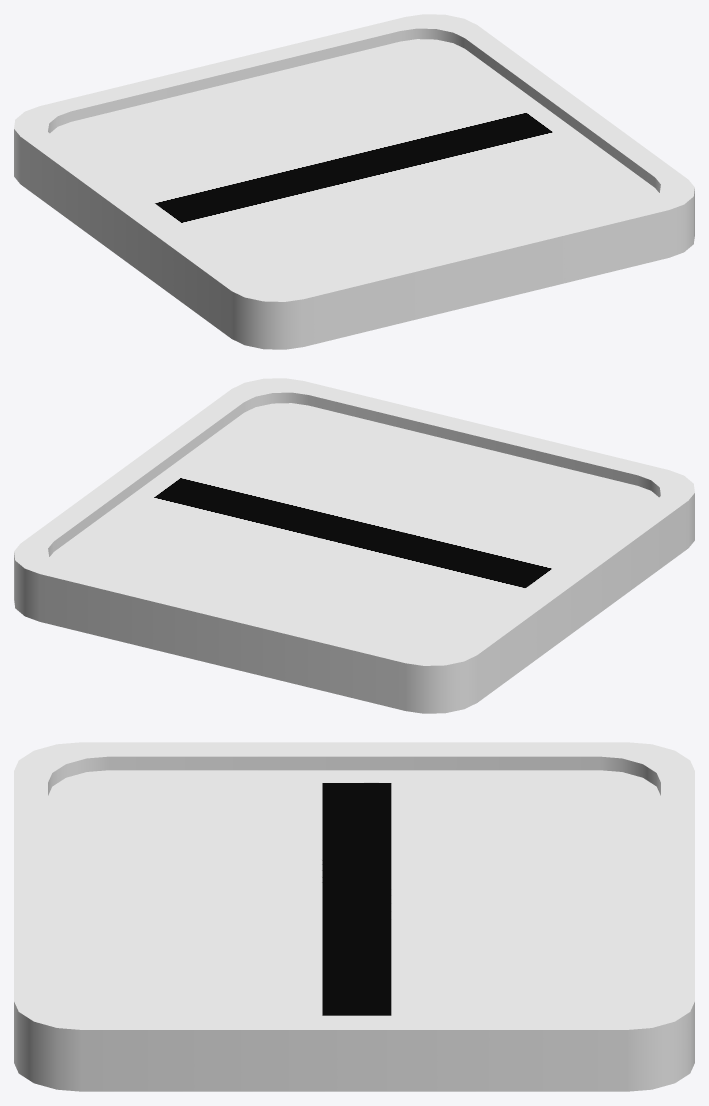
File: PuzzleBrick.fbx
3 renders of one model, top to bottom at view 1: azimuth 30°, elevation 25°; view 2: azimuth 150°, elevation 25°; view 3: azimuth 270°, elevation 25°, orthographic. The views are drawn at different scales.
Visible parts, largest first — view 1: PuzzleBrick; view 2: PuzzleBrick; view 3: PuzzleBrick.
Boxes of the visible parts, <box> form: PuzzleBrick: <box>14,14,694,349</box>; PuzzleBrick: <box>14,378,694,713</box>; PuzzleBrick: <box>14,742,694,1091</box>.
Size of the model in its own units: 10 by 1 by 10.
